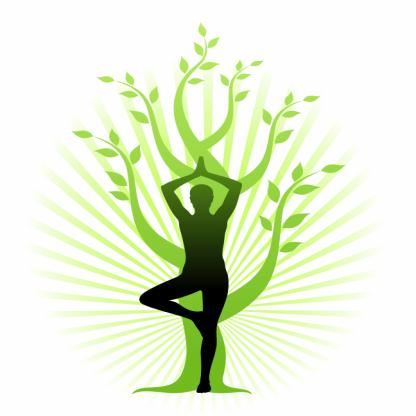tree: (135, 151, 249, 396)
